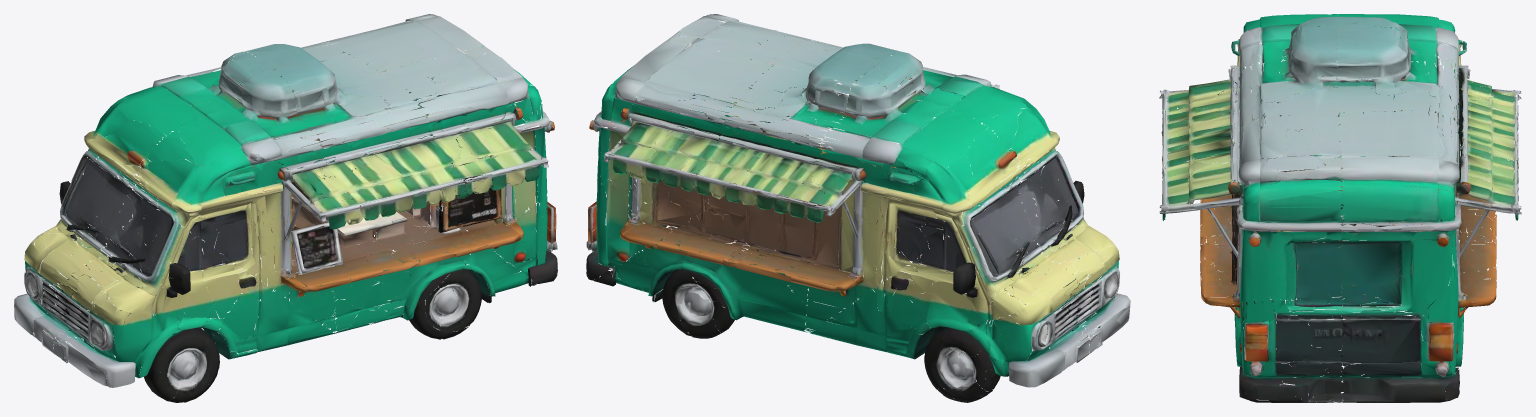
The model's file is food_truck.glb.
3 views of the same model, side by side, from view 1: azimuth 30°, elevation 25°; view 2: azimuth 150°, elevation 25°; view 3: azimuth 270°, elevation 25° (orthographic). The views are drawn at different scales.
Parts seen in each view (by area): view 1: food_truck; view 2: food_truck; view 3: food_truck.
Part boxes in pixels (x1,y1,x2,y2): food_truck: (14, 14, 557, 402); food_truck: (586, 14, 1130, 402); food_truck: (1159, 14, 1521, 402).
Bounding box in the file's own units: 5.4 × 3.04 × 3.46.
Materials: 1 (1 with a texture image).
